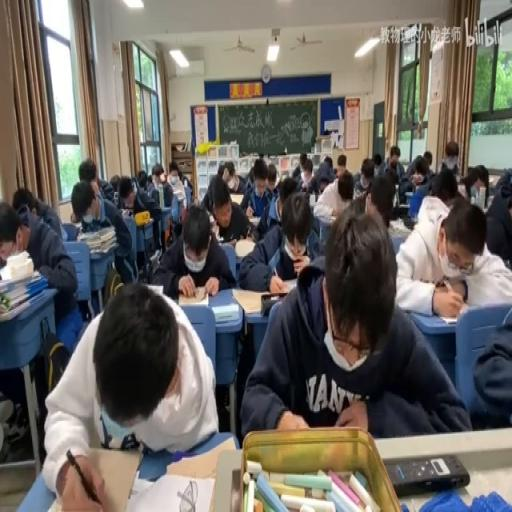calculator: (126, 469, 214, 512), (163, 434, 234, 479), (233, 284, 291, 314), (178, 287, 210, 306), (212, 302, 238, 324), (166, 179, 186, 202), (234, 238, 256, 258), (277, 276, 299, 293), (315, 209, 336, 225), (209, 215, 221, 239), (437, 311, 459, 323), (145, 283, 163, 296), (229, 192, 244, 205), (219, 238, 236, 248), (487, 175, 499, 188), (149, 248, 159, 263), (120, 208, 133, 219), (483, 199, 494, 212), (247, 214, 259, 224), (309, 195, 317, 209), (404, 190, 414, 198)
paper: (240, 204, 464, 440), (42, 281, 218, 505), (0, 192, 78, 365), (155, 202, 233, 300), (72, 178, 134, 287), (470, 307, 510, 428), (128, 171, 164, 256), (484, 172, 512, 269), (239, 156, 276, 225), (296, 179, 325, 259), (402, 155, 435, 205), (272, 175, 298, 227), (430, 168, 459, 206), (352, 155, 378, 196), (457, 165, 485, 202), (220, 158, 246, 193), (10, 186, 36, 216), (382, 147, 404, 179), (441, 138, 460, 173), (336, 168, 354, 203), (78, 156, 98, 184), (117, 178, 134, 209), (168, 161, 183, 182), (152, 164, 166, 186), (109, 172, 121, 194), (266, 164, 278, 186), (316, 178, 330, 196), (298, 152, 309, 174), (135, 168, 147, 186), (69, 204, 78, 224), (373, 152, 382, 171), (422, 151, 431, 168), (292, 164, 302, 179), (337, 155, 346, 171), (322, 156, 332, 170), (246, 165, 254, 182), (182, 175, 191, 188), (258, 152, 264, 159)
person: (386, 452, 470, 494), (402, 214, 416, 228), (397, 202, 409, 215)
